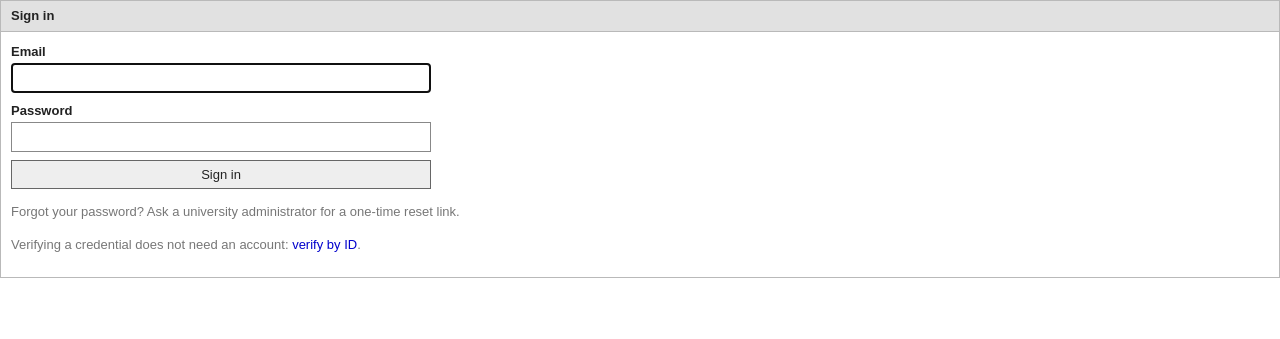
Login › shows the server message on a wrong password and stays signed out
Step 1. Type "a@u.edu" into the field labelled "Email" → (221, 78), box [11, 63, 431, 92]
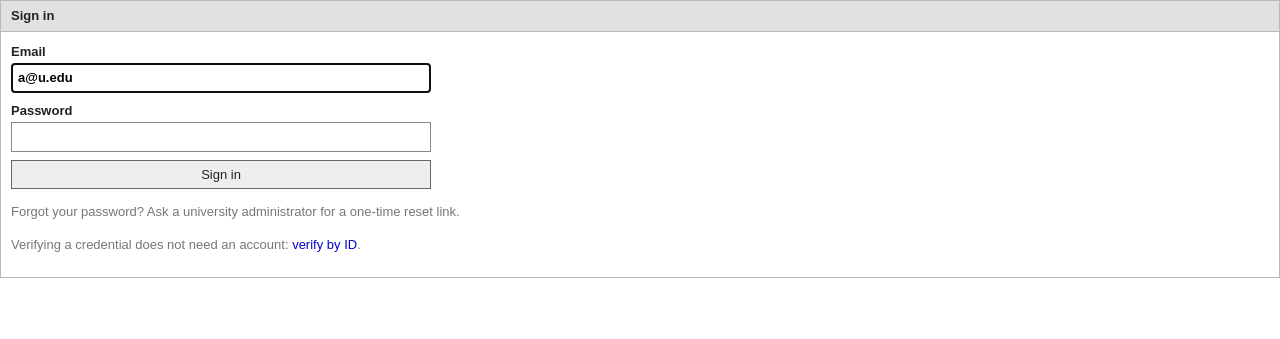
Step 2. Type "wrong wrong wrong" into the password field labelled "Password" → (221, 137), box [11, 122, 431, 152]
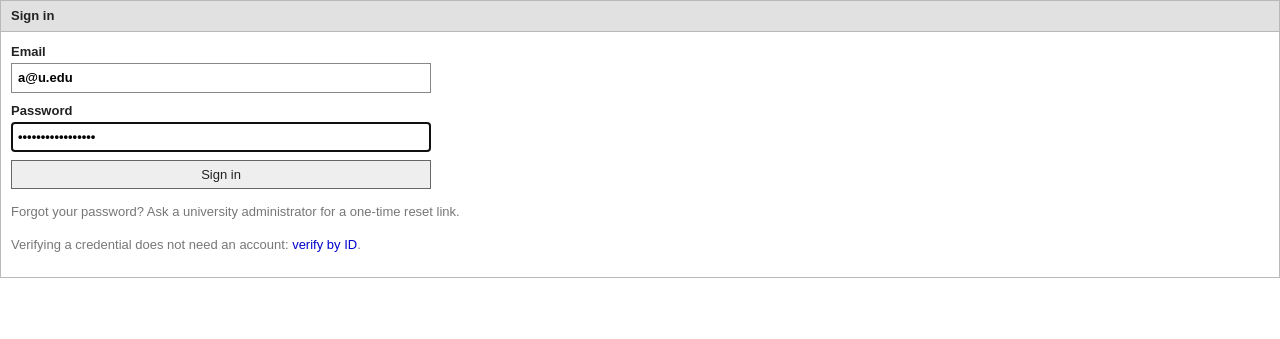
Step 3. Click the button "Sign in" → (221, 174), box [11, 160, 431, 189]
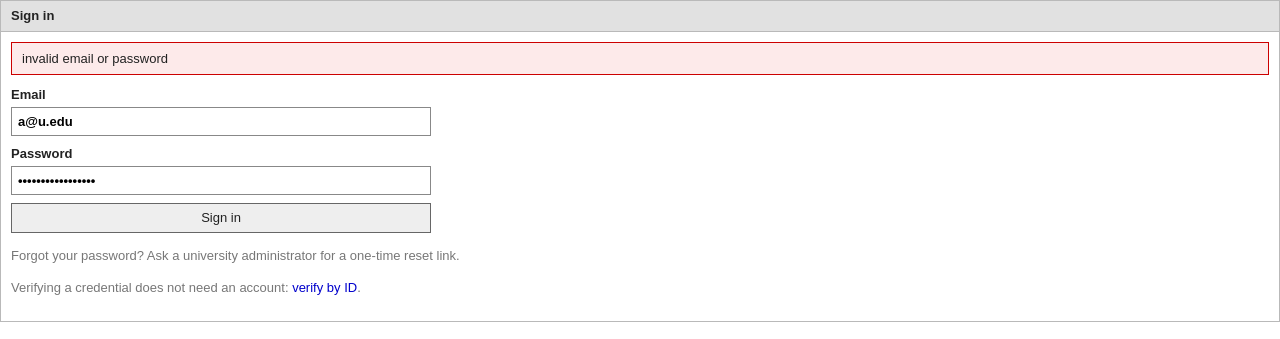
Check: the text "invalid email or password" is shown, box [11, 42, 1269, 75]
